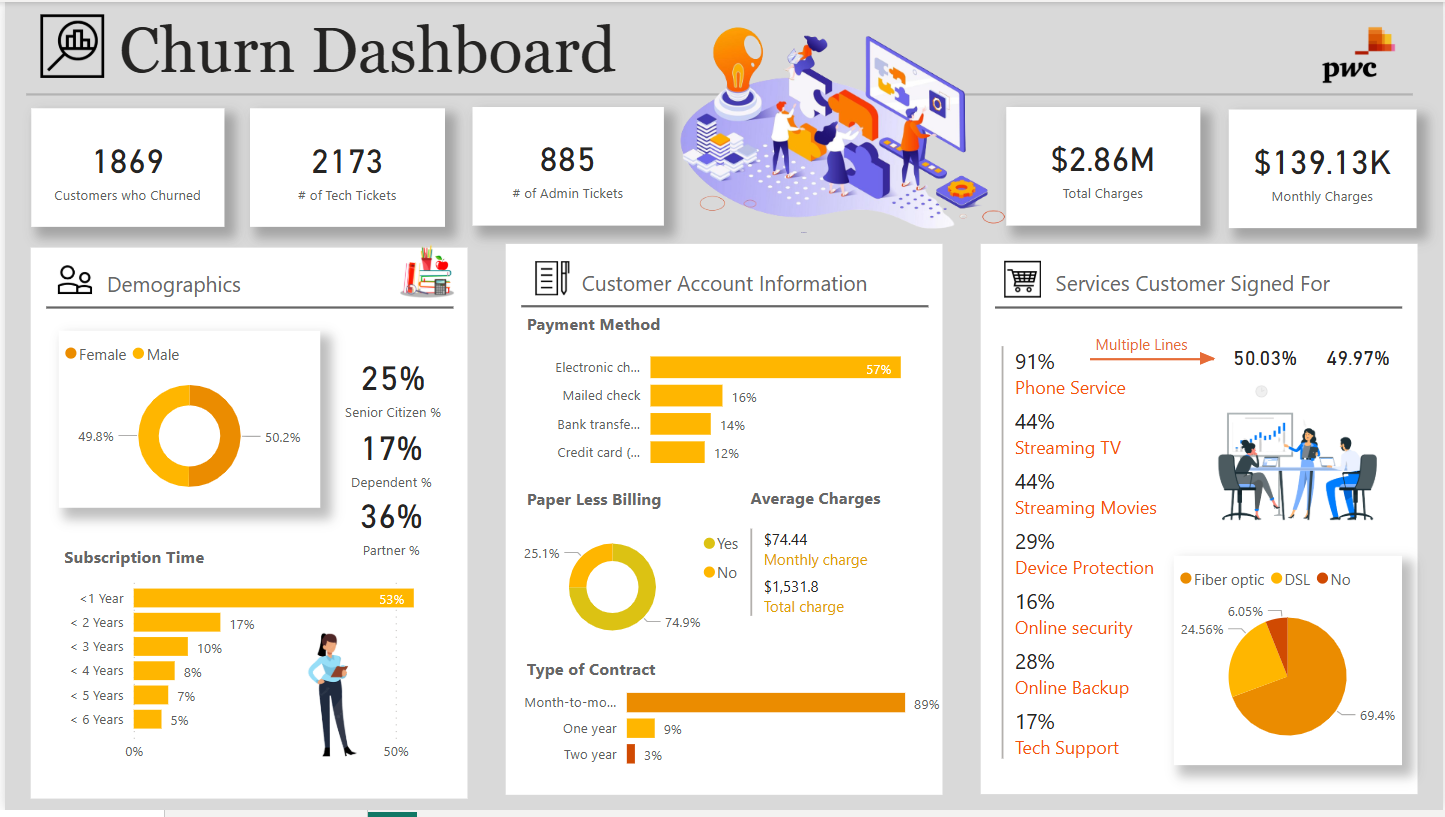

What the dashboard file says about the page in this screenshot:
{"tool":"powerbi","page":{"name":"Churn Dashboard","canvas":[1280,720],"ordinal":0},"visuals":[{"type":"image","box":[1129,0,151,94.5],"z":0},{"type":"card","fields":{"Values":["Count(01 Churn-Dataset.customerID)"]},"box":[23.3,94.2,172.1,105.8],"z":1000},{"type":"card","fields":{"Values":["Sum(01 Churn-Dataset.numTechTickets)"]},"box":[218.1,94.6,173.6,105.7],"z":2000},{"type":"card","fields":{"Values":["Sum(01 Churn-Dataset.MonthlyCharges)"]},"box":[1089.5,95.7,166.9,105.7],"z":3000},{"type":"basicShape","box":[19.3,213.5,396.8,500.5],"z":4000},{"type":"card","fields":{"Values":["Sum(01 Churn-Dataset.numAdminTickets)"]},"box":[416.2,93.5,170.3,105.7],"z":5000},{"type":"card","fields":{"Values":["Sum(01 Churn-Dataset.TotalCharges)"]},"box":[891.4,93.5,172.5,105.7],"z":6000},{"type":"donutChart","fields":{"Category":["01 Churn-Dataset.gender"],"Y":["CountNonNull(01 Churn-Dataset.gender)"]},"box":[48.2,293.1,232.8,158],"z":7000},{"type":"card","fields":{"Values":["01 Churn-Dataset.Senior Citizen %"]},"box":[284.6,305.1,121.8,72.4],"z":8000},{"type":"card","fields":{"Values":["01 Churn-Dataset.Partner %"]},"box":[281,426.9,125.4,73.6],"z":9000},{"type":"card","fields":{"Values":["01 Churn-Dataset.Dependent %"]},"box":[281,366.6,125.4,73.6],"z":10000},{"type":"clusteredBarChart","fields":{"Category":["01 Churn-Dataset.Loyalty"],"Y":["CountNonNull(01 Churn-Dataset.Churn)"]},"box":[48.2,500.5,364.2,184.5],"z":11000},{"type":"textbox","box":[48.2,478.8,206.2,43.4],"z":12000},{"type":"textbox","box":[85.6,234,290.7,50.7],"z":13000},{"type":"basicShape","box":[864.9,210,396.8,499.9],"z":14000},{"type":"basicShape","box":[441.4,209.8,396.8,500.5],"z":15000},{"type":"shape","box":[36.2,214.7,363,114.6],"z":16000},{"type":"shape","box":[459.5,213.5,363,114.6],"z":17000},{"type":"shape","box":[881.6,214.7,363,114.6],"z":18000},{"type":"textbox","box":[508.6,232.6,290.4,51.2],"z":19000},{"type":"textbox","box":[930.3,232.6,290.4,51.2],"z":20000},{"type":"clusteredBarChart","fields":{"Category":["01 Churn-Dataset.PaymentMethod"],"Y":["CountNonNull(01 Churn-Dataset.Churn)"]},"box":[471.6,293.1,359.4,133.9],"z":21000},{"type":"textbox","box":[459.5,271.4,206.2,43.4],"z":22000},{"type":"textbox","box":[459.5,426.9,206.2,43.4],"z":23000},{"type":"donutChart","fields":{"Category":["01 Churn-Dataset.PaperlessBilling"],"Y":["CountNonNull(01 Churn-Dataset.Churn)"]},"box":[455.8,464,210.5,114],"z":24000},{"type":"textbox","box":[459.5,578.9,206.2,43.4],"z":25000},{"type":"barChart","fields":{"Category":["01 Churn-Dataset.Contract"],"Y":["CountNonNull(01 Churn-Dataset.Churn)"]},"box":[441.4,593.4,396.8,100.1],"z":26000},{"type":"multiRowCard","fields":{"Values":["01 Churn-Dataset.Monthly charge","01 Churn-Dataset.Total charge"]},"box":[659.3,464,154.7,89.5],"z":27000},{"type":"textbox","box":[659.3,426.7,205.8,43],"z":28000},{"type":"multiRowCard","fields":{"Values":["01 Churn-Dataset.Phone Service","01 Churn-Dataset.Streaming TV","01 Churn-Dataset.Streaming Movies","01 Churn-Dataset.Device Protection","01 Churn-Dataset.Online security","01 Churn-Dataset.Online Backup","01 Churn-Dataset.Tech Support"]},"box":[882.6,301.2,239.5,383.7],"z":29000},{"type":"card","fields":{"Values":["01 Churn-Dataset.Multiple lines no"]},"box":[1133.7,301.2,141.9,32.6],"z":30000},{"type":"card","fields":{"Values":["01 Churn-Dataset.Multiple lines Yes"]},"box":[1052.3,297.7,138.4,40.7],"z":31000},{"type":"shape","box":[966.3,284.9,110.5,66.3],"z":32000},{"type":"shape","box":[1064,311.6,14,11.6],"z":33000},{"type":"textbox","box":[966.3,290.7,290.7,50],"z":34000},{"type":"pieChart","fields":{"Category":["01 Churn-Dataset.InternetService"],"Y":["CountNonNull(01 Churn-Dataset.InternetService)"]},"box":[1040.7,493,203.5,186],"z":35000},{"type":"textbox","box":[96.8,6.7,1182.9,75.7],"z":36000},{"type":"shape","box":[18.9,32.3,1234.1,100.2],"z":37000},{"type":"image","box":[560.9,0,362.8,210.3],"z":38000},{"type":"image","box":[1052.7,284.9,201.4,223.7],"z":39000},{"type":"image","box":[218.1,540.8,146.9,152.5],"z":40000},{"type":"image","box":[336.1,210.3,80.1,60.1],"z":41000},{"type":"image","box":[42.3,224.8,40.1,44.5],"z":42000},{"type":"image","box":[464,225.9,46.7,40.1],"z":43000},{"type":"image","box":[884.7,224.8,42.3,43.4],"z":44000},{"type":"image","box":[26.7,4.5,66.8,69],"z":45000}]}

Visuals, with their boxes in screenshot pixels (x1, y1, x2, y2), scaled from the page's 1280x720 canvas onto the 1445x817 screenshot:
image: (1275, 0, 1444, 107)
card - Count(01 Churn-Dataset.customerID): (26, 107, 221, 227)
card - Sum(01 Churn-Dataset.numTechTickets): (246, 107, 442, 227)
card - Sum(01 Churn-Dataset.MonthlyCharges): (1230, 109, 1418, 229)
basicShape: (22, 242, 470, 810)
card - Sum(01 Churn-Dataset.numAdminTickets): (470, 106, 662, 226)
card - Sum(01 Churn-Dataset.TotalCharges): (1006, 106, 1201, 226)
donutChart - 01 Churn-Dataset.gender x CountNonNull(01 Churn-Dataset.gender): (54, 333, 317, 512)
card - 01 Churn-Dataset.Senior Citizen %: (321, 346, 459, 428)
card - 01 Churn-Dataset.Partner %: (317, 484, 459, 568)
card - 01 Churn-Dataset.Dependent %: (317, 416, 459, 500)
clusteredBarChart - 01 Churn-Dataset.Loyalty x CountNonNull(01 Churn-Dataset.Churn): (54, 568, 466, 777)
textbox: (54, 543, 287, 593)
textbox: (97, 266, 425, 323)
basicShape: (976, 238, 1424, 806)
basicShape: (498, 238, 946, 806)
shape: (41, 244, 451, 374)
shape: (519, 242, 929, 372)
shape: (995, 244, 1405, 374)
textbox: (574, 264, 902, 322)
textbox: (1050, 264, 1378, 322)
clusteredBarChart - 01 Churn-Dataset.PaymentMethod x CountNonNull(01 Churn-Dataset.Churn): (532, 333, 938, 485)
textbox: (519, 308, 752, 357)
textbox: (519, 484, 752, 534)
donutChart - 01 Churn-Dataset.PaperlessBilling x CountNonNull(01 Churn-Dataset.Churn): (515, 527, 752, 656)
textbox: (519, 657, 752, 706)
barChart - 01 Churn-Dataset.Contract x CountNonNull(01 Churn-Dataset.Churn): (498, 673, 946, 787)
multiRowCard - 01 Churn-Dataset.Monthly charge x 01 Churn-Dataset.Total charge: (744, 527, 919, 628)
textbox: (744, 484, 977, 533)
multiRowCard - 01 Churn-Dataset.Phone Service x 01 Churn-Dataset.Streaming TV: (996, 342, 1267, 777)
card - 01 Churn-Dataset.Multiple lines no: (1280, 342, 1440, 379)
card - 01 Churn-Dataset.Multiple lines Yes: (1188, 338, 1344, 384)
shape: (1091, 323, 1216, 399)
shape: (1201, 354, 1217, 367)
textbox: (1091, 330, 1419, 387)
pieChart - 01 Churn-Dataset.InternetService x CountNonNull(01 Churn-Dataset.InternetService): (1175, 559, 1405, 770)
textbox: (109, 8, 1444, 94)
shape: (21, 37, 1415, 150)
image: (633, 0, 1043, 239)
image: (1188, 323, 1416, 577)
image: (246, 614, 412, 787)
image: (379, 239, 470, 307)
image: (48, 255, 93, 306)
image: (524, 256, 577, 302)
image: (999, 255, 1046, 304)
image: (30, 5, 106, 83)
